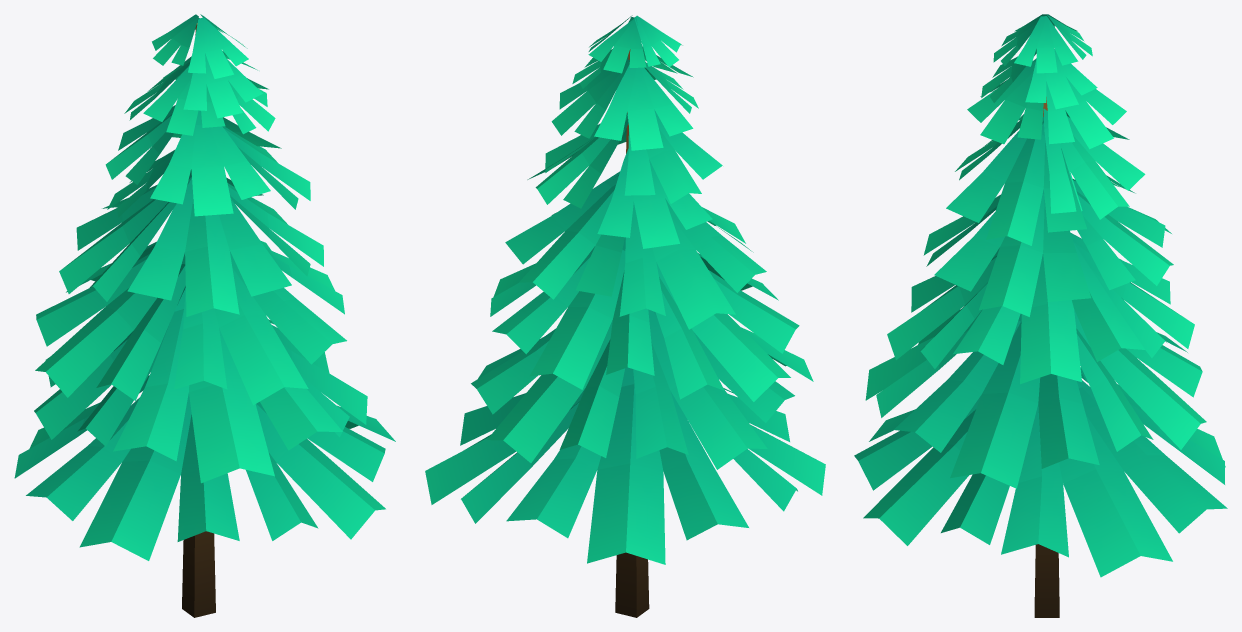
The model's file is VEG0210043.fbx.
3 renders of one model, left to right at view 1: azimuth 30°, elevation 25°; view 2: azimuth 150°, elevation 25°; view 3: azimuth 270°, elevation 25°, orthographic.
Visible parts, largest first — view 1: smVEG0210043; view 2: smVEG0210043; view 3: smVEG0210043.
Part boxes in pixels (left/top/right/bottom): smVEG0210043: left=14, top=14, right=395, bottom=617; smVEG0210043: left=425, top=15, right=825, bottom=617; smVEG0210043: left=854, top=14, right=1227, bottom=617.
Size of the model in its own units: 373 by 630 by 358.
Materials: 2 (2 with a texture image).
